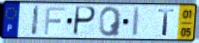F: (43, 6, 67, 36)
I: (30, 4, 41, 37), (131, 6, 142, 38)
P: (71, 5, 97, 37)
Q: (98, 6, 123, 38)
T: (157, 8, 176, 37)
